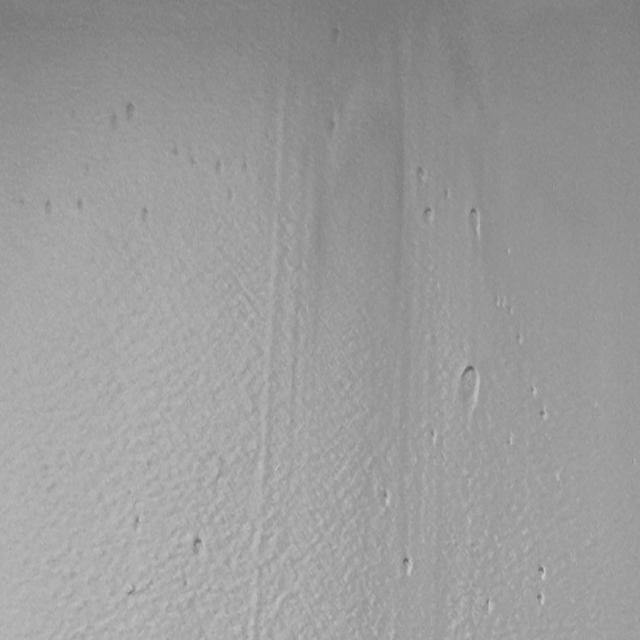pin holes: (454, 363, 481, 411), (464, 209, 484, 241), (122, 102, 141, 127), (188, 538, 208, 561), (322, 117, 340, 141), (397, 556, 415, 579), (414, 165, 432, 188), (420, 208, 435, 229), (330, 25, 344, 45), (536, 566, 551, 584), (379, 491, 392, 511), (138, 207, 151, 227), (76, 196, 89, 216), (43, 198, 57, 216), (535, 589, 548, 608), (215, 156, 224, 180), (514, 332, 525, 350), (538, 407, 550, 423), (226, 188, 234, 209), (240, 161, 250, 177), (110, 113, 118, 132), (443, 188, 452, 202), (531, 384, 538, 399), (429, 428, 436, 443), (506, 434, 514, 446), (494, 292, 499, 310), (507, 304, 513, 317), (500, 297, 506, 309)
